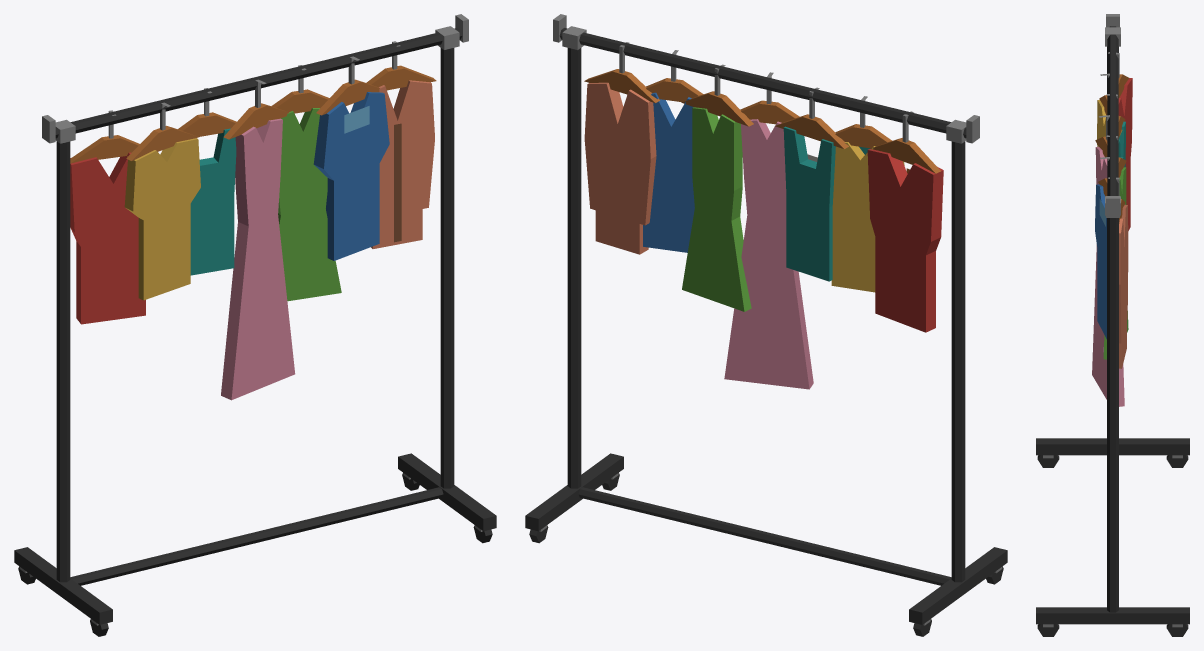
The model's file is kiyafet_askisi.glb.
3 views of the same model, side by side, from view 1: azimuth 30°, elevation 25°; view 2: azimuth 150°, elevation 25°; view 3: azimuth 270°, elevation 25° (orthographic). The views are drawn at different scales.
Parts seen in each view (by area): view 1: kiyafet_askisi; view 2: kiyafet_askisi; view 3: kiyafet_askisi.
Part boxes in pixels (left/top/right/bottom): kiyafet_askisi: left=14, top=14, right=496, bottom=636; kiyafet_askisi: left=525, top=14, right=1007, bottom=636; kiyafet_askisi: left=1036, top=14, right=1189, bottom=636.
Bounding box in the file's own units: 1.42 × 1.6 × 0.5.
